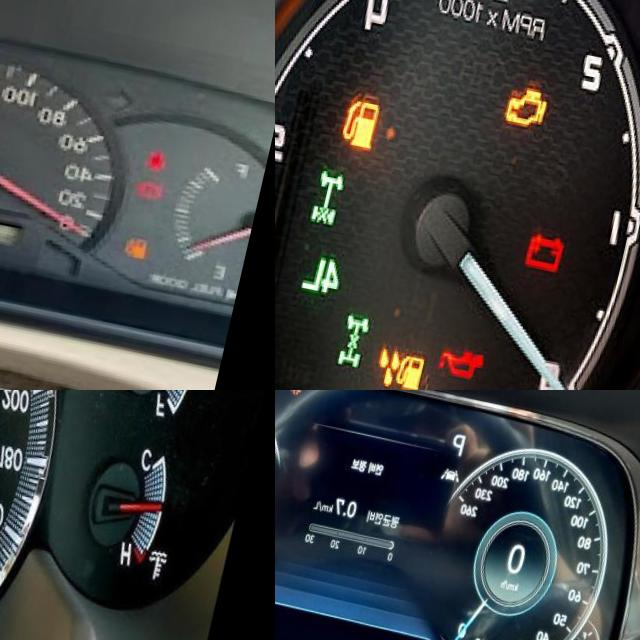LaneCenteringOff: (455, 451, 475, 467)
